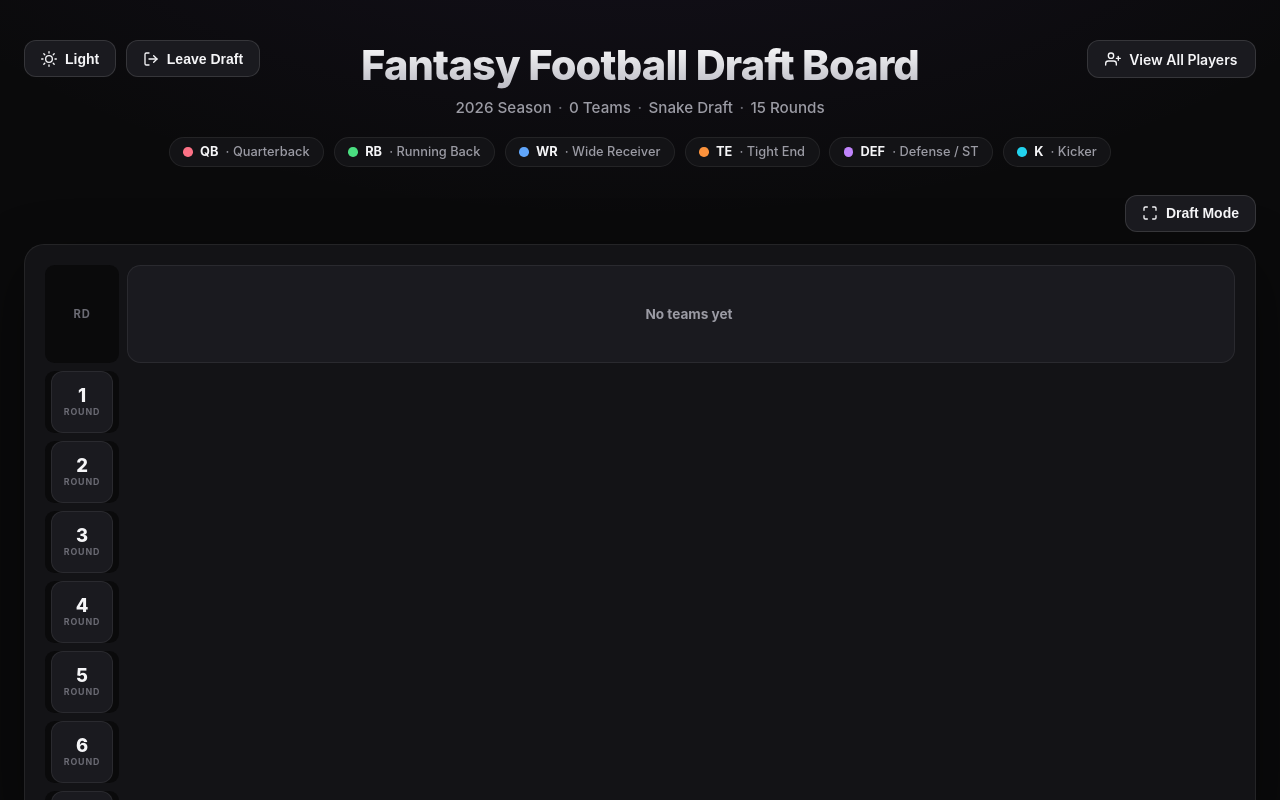
Test: DashboardComponent › shows the Draft Mode button for both a viewer and a commissioner, docked after the (possibly absent) Settings link
Click the button with class "draft-mode-btn".
click(1190, 213)  # box [1125,195,1256,232]
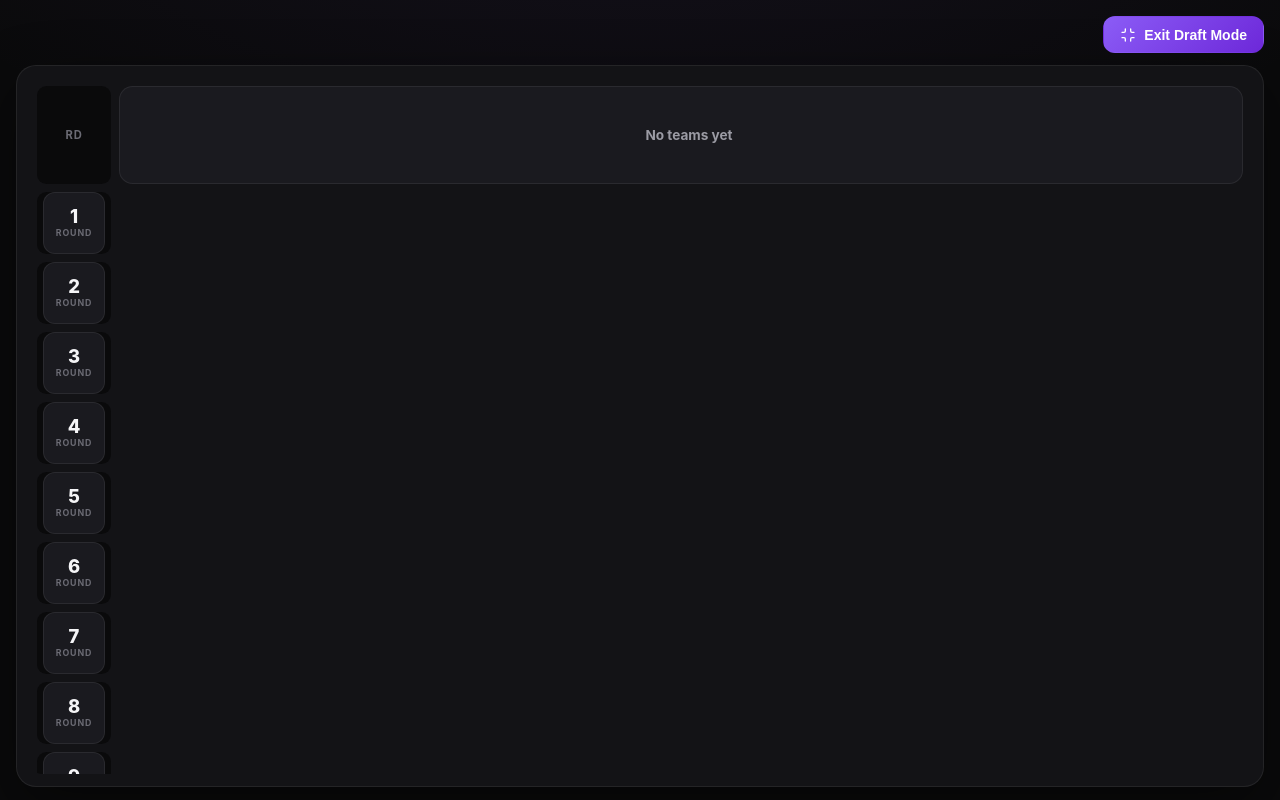
expect the text "Exit Draft Mode" is shown: met, box [1144,27,1247,43]
